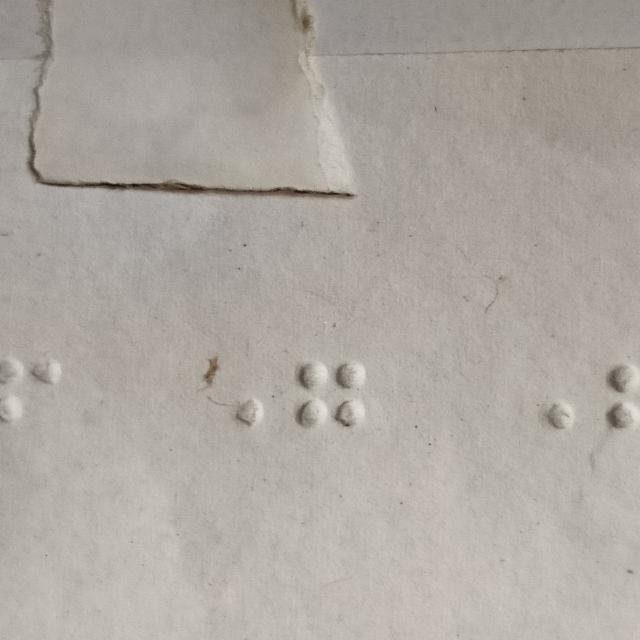dot_5: (190, 359, 269, 460), (501, 362, 579, 463)
gunita: (292, 359, 371, 460)
